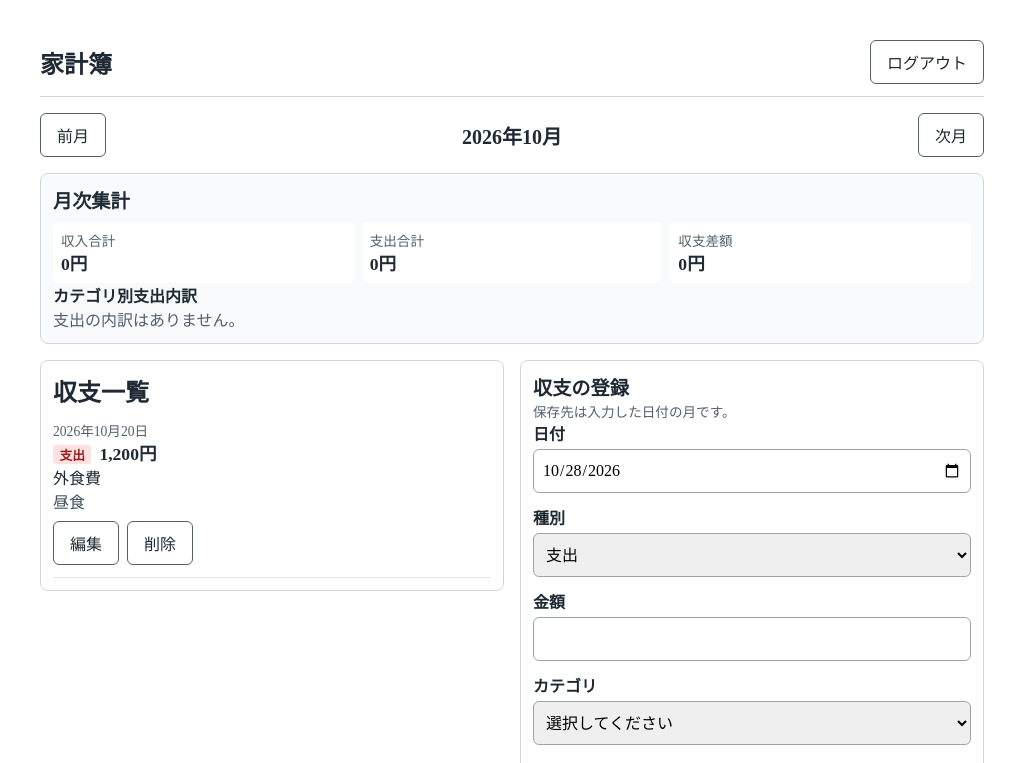
Scenario: 登録フォームの検証 › blocks empty fields while editing without PUT（T07）
Expected: the heading "月次集計" is shown, [53,191,130,212]
Click the button with aria-label "の収支を編集".
click(86, 543)  # box [53,521,119,565]
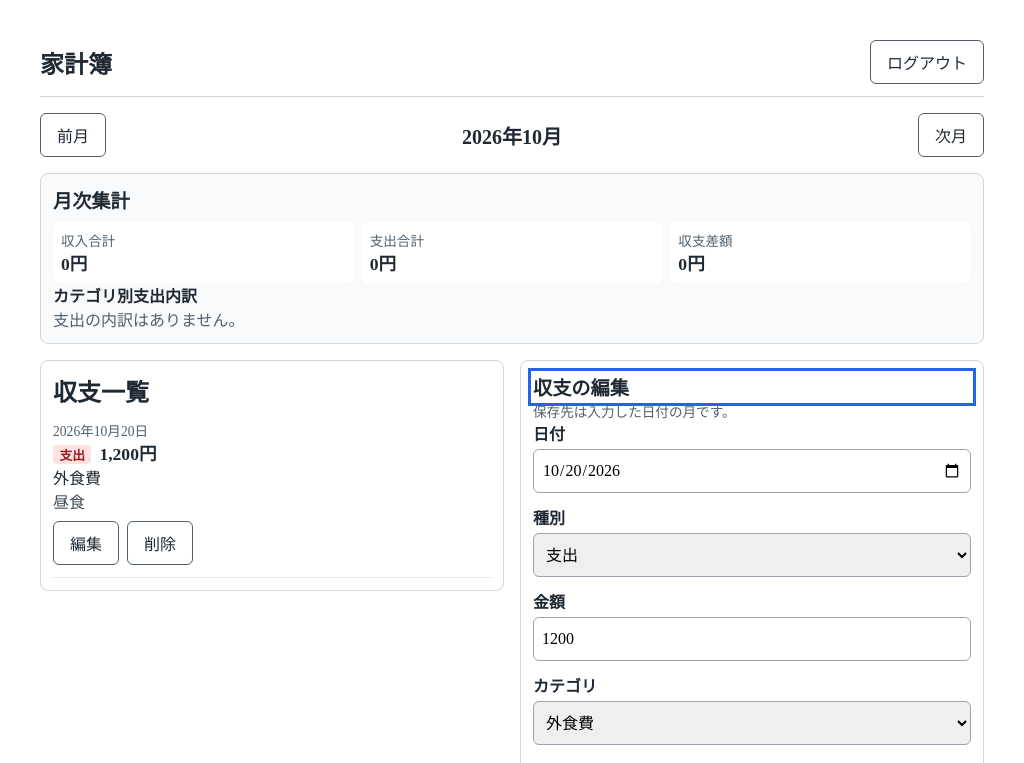
Expected: the heading "収支の編集" is shown, [533,378,629,399]
Clear the date field labelled "日付" at (752, 471), box [533,449,971,493]
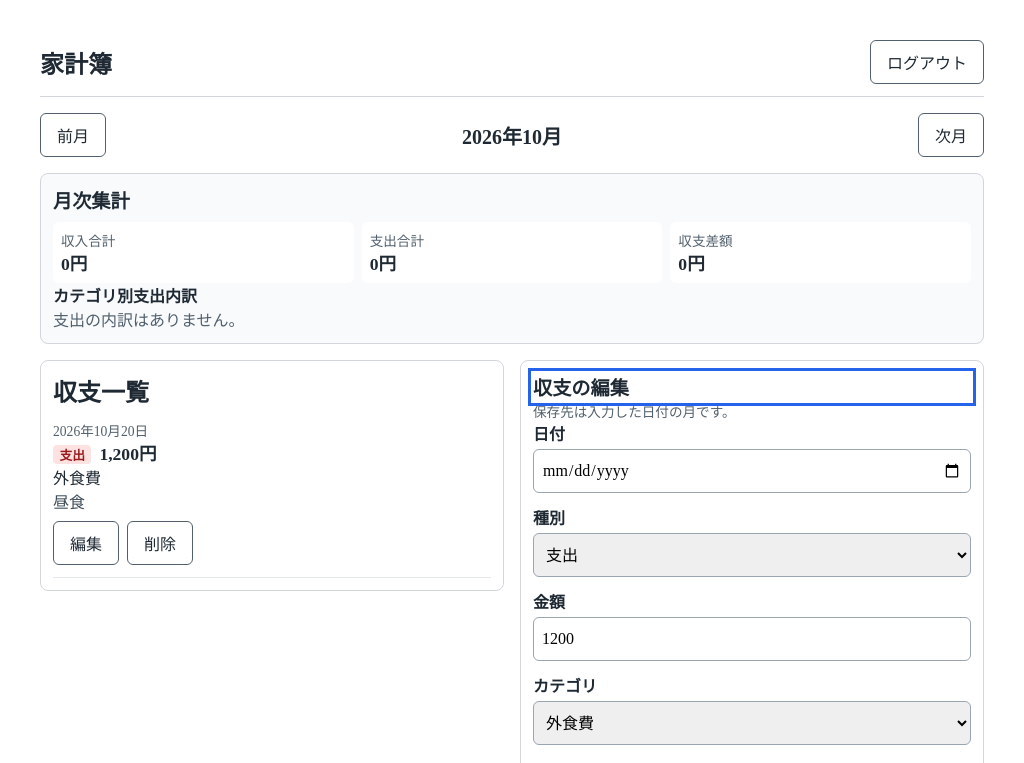
Select "選択してください" in the dropdown labelled "種別" at (752, 555), box [533,533,971,577]
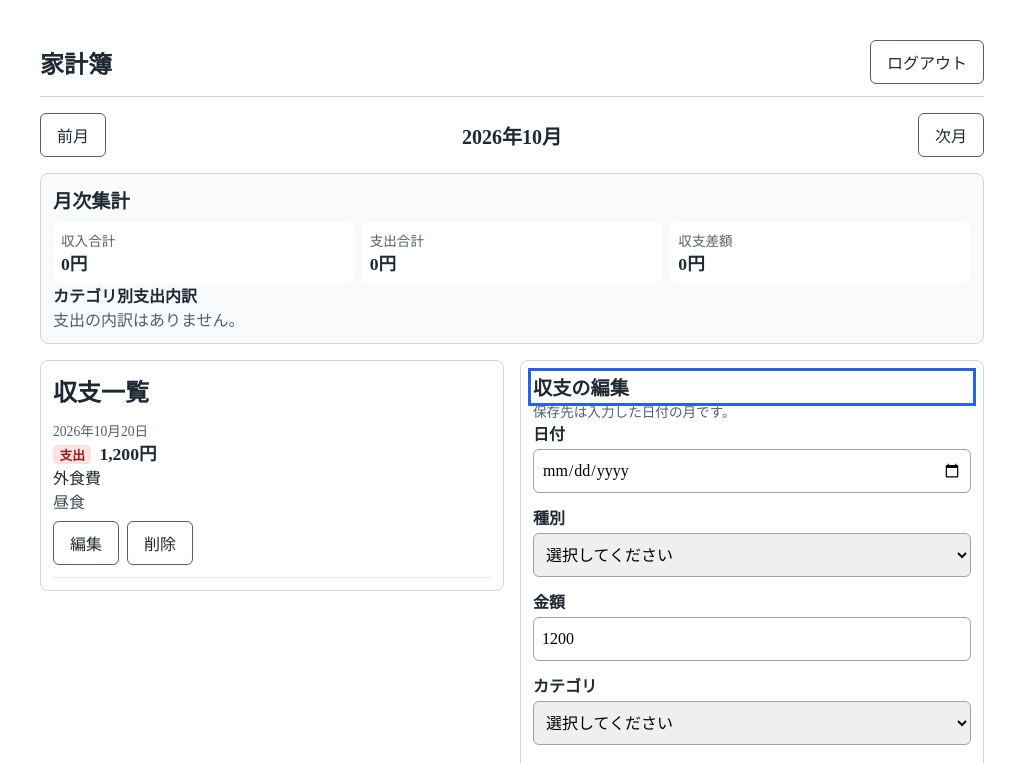
Clear the field labelled "金額" at (752, 639), box [533,617,971,661]
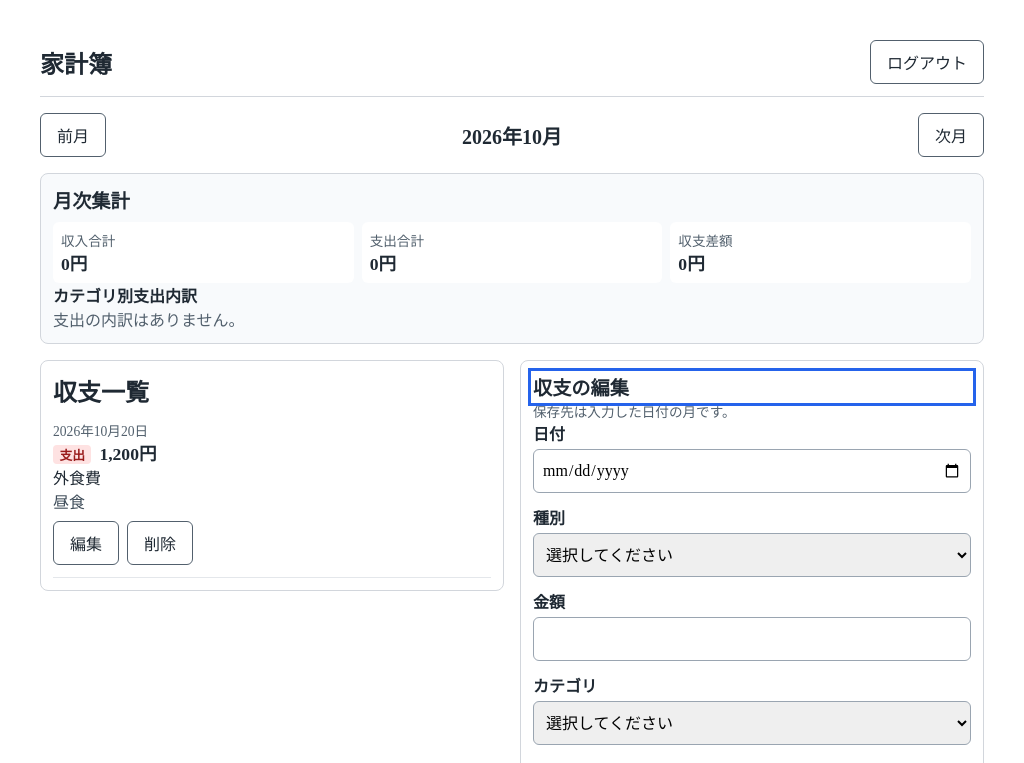
Select "選択してください" in the dropdown labelled "カテゴリ" at (752, 723), box [533,701,971,745]
(page scrolled)
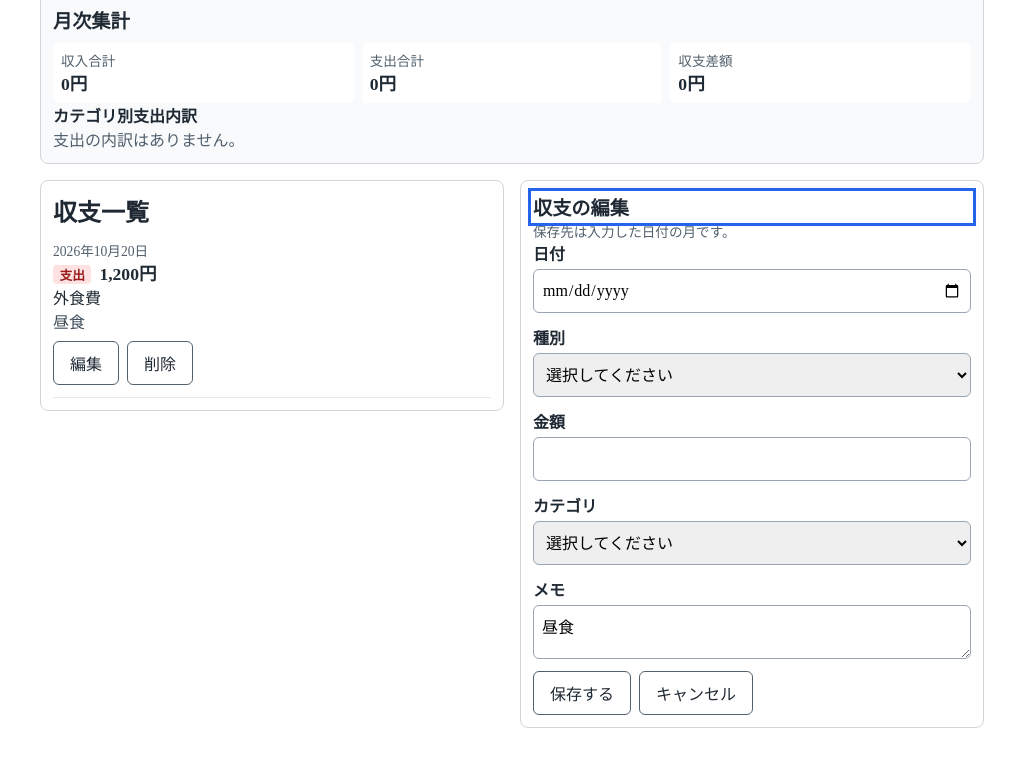
Click the button "保存する".
click(582, 693)  # box [533,671,631,715]
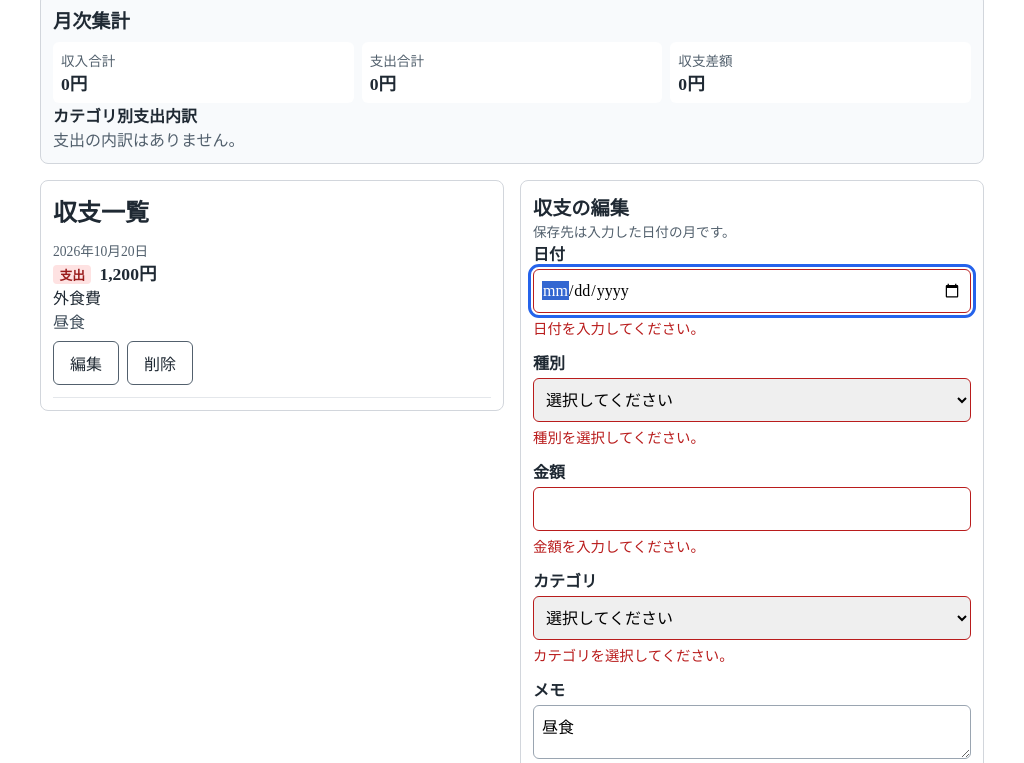
Expected: the text "日付を入力してください。" is shown, [533,321,705,337]
Expected: the text "金額を入力してください。" is shown, [533,539,705,555]
